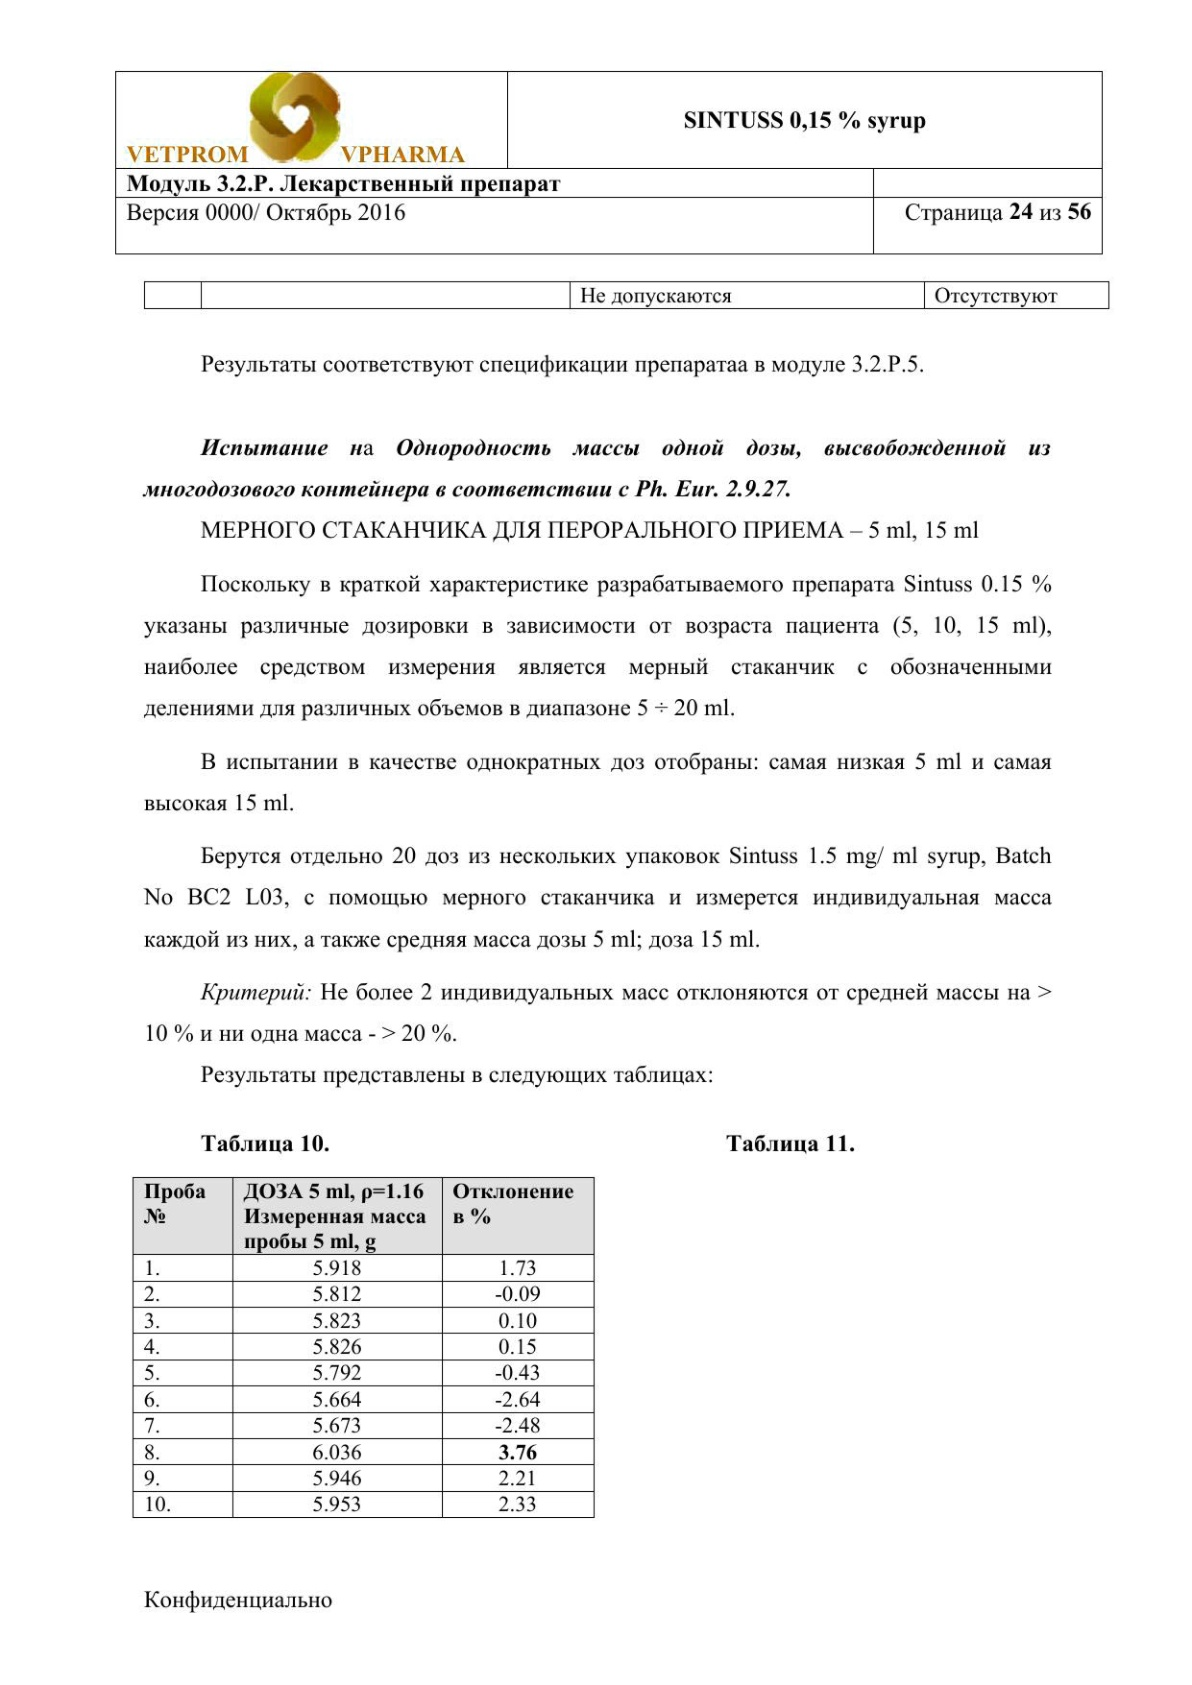full_lined: (132, 1175, 596, 1519), (142, 280, 1109, 308)
merged_cells: (114, 68, 1102, 254)
